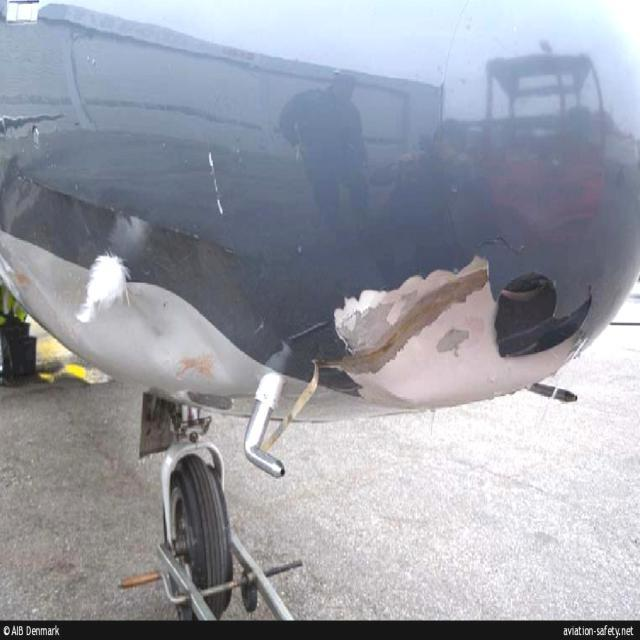crack: (474, 234, 531, 265)
dent: (365, 311, 456, 396), (130, 292, 185, 375), (189, 311, 239, 380)
